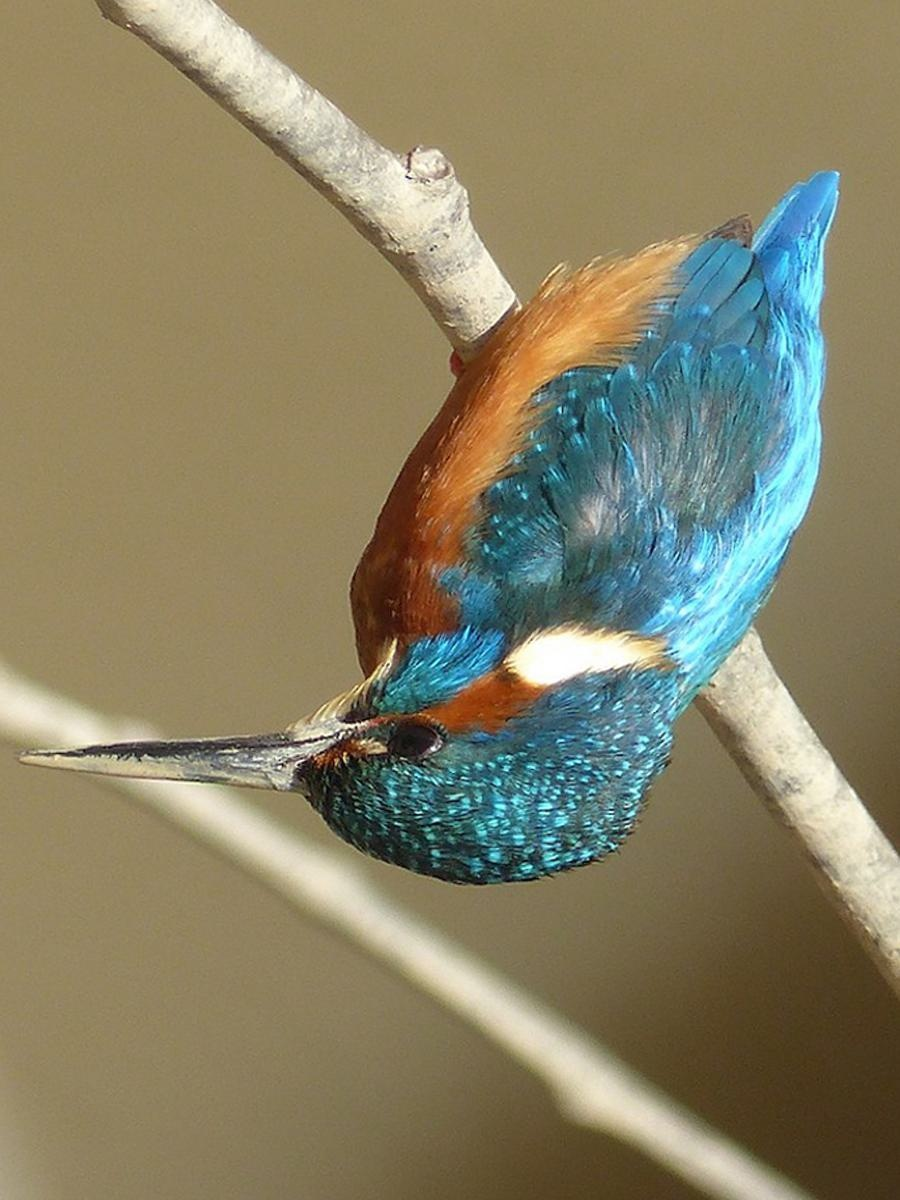kingfisher: (22, 164, 897, 901)
